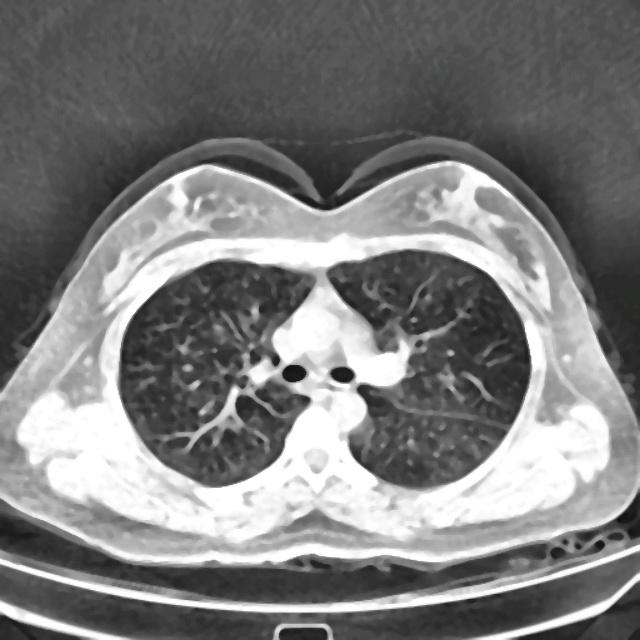covid: (1, 135, 638, 572)
